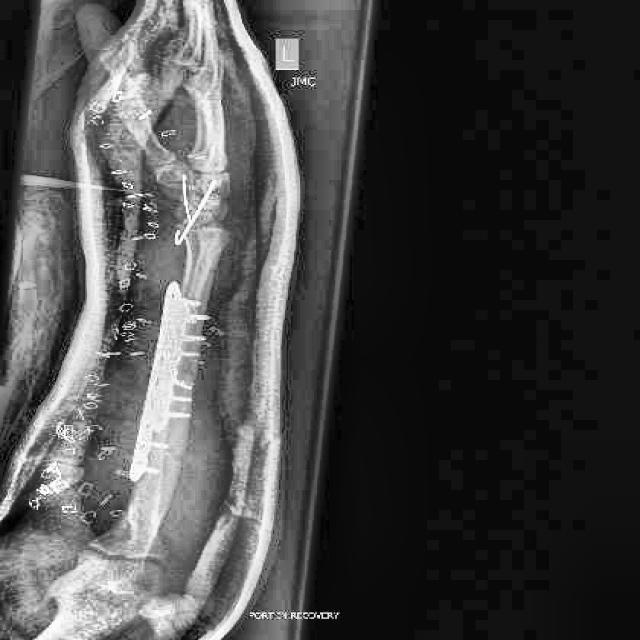forearm fracture: (197, 261, 232, 292), (179, 355, 208, 386)
